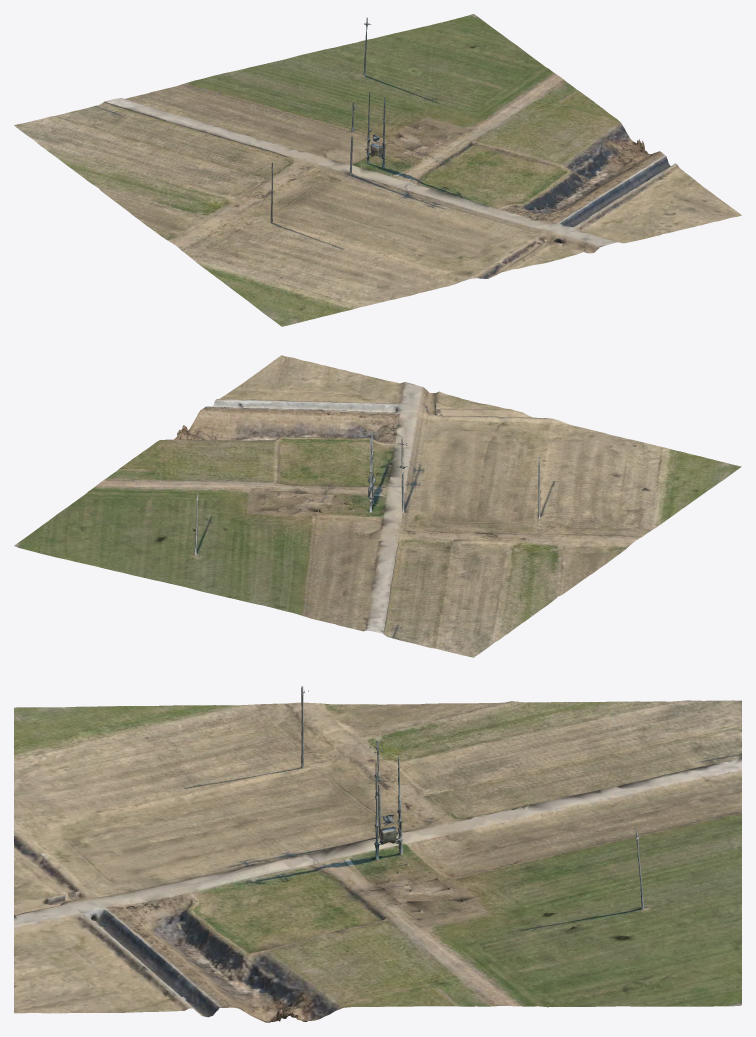
Rendered from village-country-road.glb.
3 views of the same model, one above another, from view 1: azimuth 30°, elevation 25°; view 2: azimuth 150°, elevation 25°; view 3: azimuth 270°, elevation 25° (orthographic). The views are drawn at different scales.
Parts seen in each view (by area): view 1: Object_2; view 2: Object_2; view 3: Object_2.
Part boxes in pixels (x1,y1,x2,y2): Object_2: (14, 14, 741, 326); Object_2: (14, 355, 741, 657); Object_2: (14, 686, 741, 1022).
Size of the model in its own units: 203 by 36.85 by 205.
Materials: 1 (1 with a texture image).
